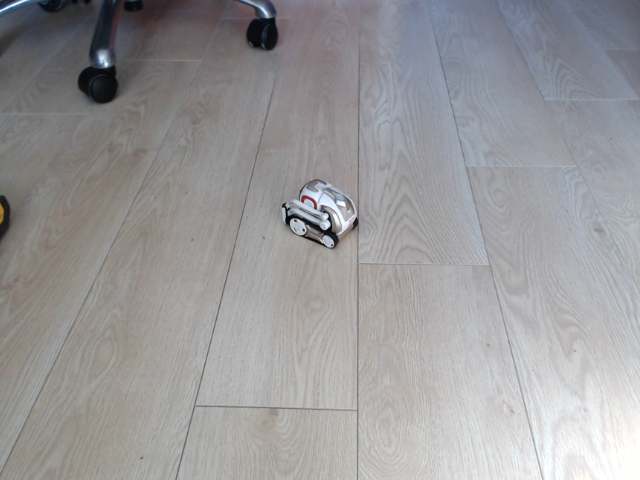cozmo: (281, 178, 360, 249)
